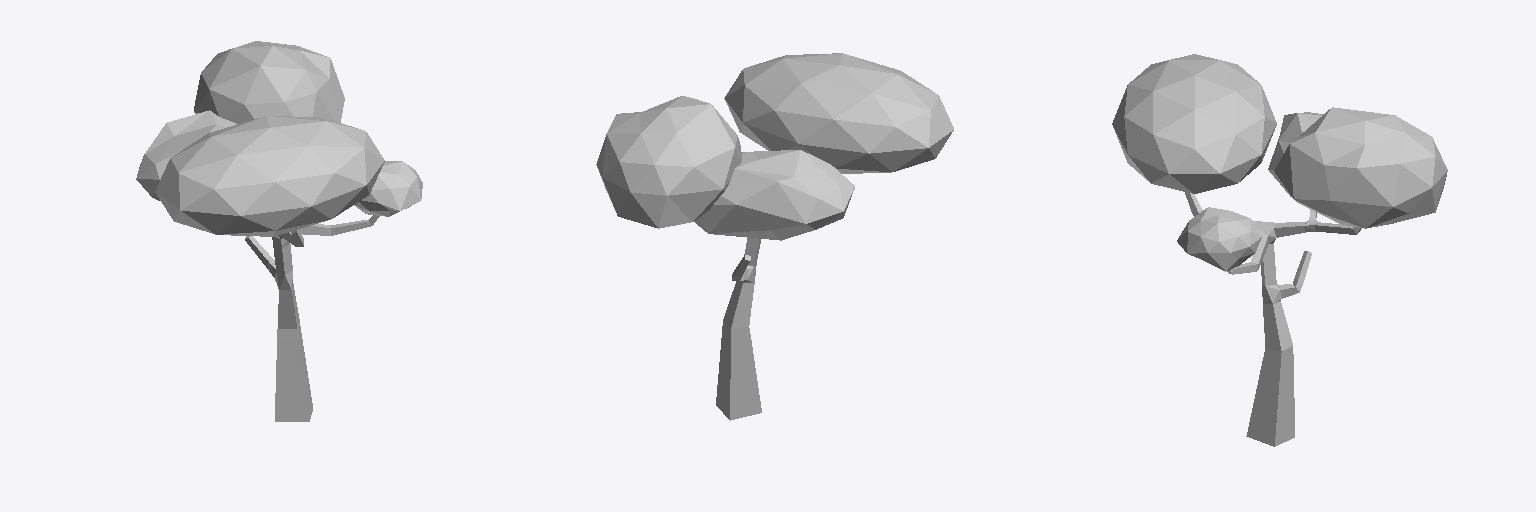
The model's file is tree1.obj.
The picture shows the model from 3 angles: view 1: azimuth 30°, elevation 25°; view 2: azimuth 150°, elevation 25°; view 3: azimuth 270°, elevation 25°; orthographic projection.
Parts seen in each view (by area): view 1: Icosphere, Icosphere.001, Plane_Plane.001, Icosphere.003, Icosphere.002; view 2: Icosphere, Icosphere.001, Icosphere.003, Plane_Plane.001; view 3: Icosphere, Icosphere.001, Plane_Plane.001, Icosphere.002, Icosphere.003.
Part boxes in pixels (x1,y1,x2,y2): Icosphere: (155, 116, 384, 236); Icosphere.001: (194, 41, 344, 123); Plane_Plane.001: (245, 215, 379, 421); Icosphere.003: (136, 110, 236, 200); Icosphere.002: (354, 161, 422, 216); Icosphere: (724, 53, 953, 173); Icosphere.001: (596, 96, 741, 228); Icosphere.003: (694, 150, 854, 240); Plane_Plane.001: (716, 238, 761, 420); Icosphere: (1112, 54, 1276, 193); Icosphere.001: (1274, 107, 1447, 228); Plane_Plane.001: (1185, 192, 1361, 446); Icosphere.002: (1177, 207, 1261, 271); Icosphere.003: (1268, 112, 1323, 197).
Bounding box in the file's own units: 34.9 × 42.38 × 38.76.